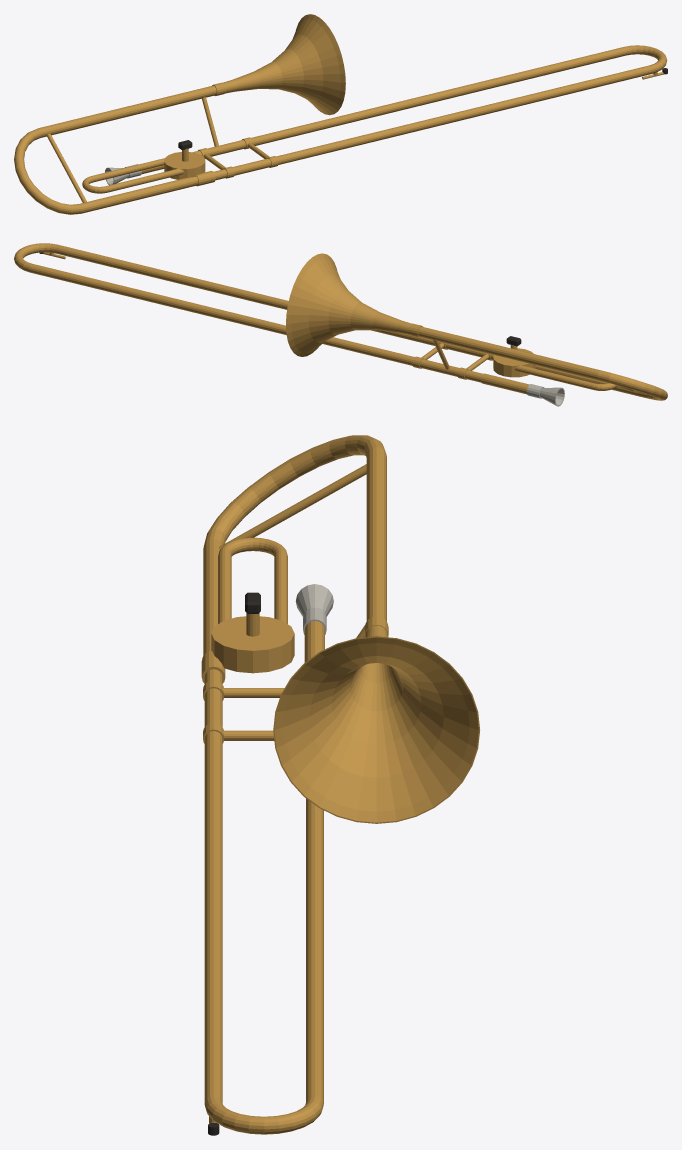
The model's file is full.glb.
3 renders of one model, top to bottom at view 1: azimuth 30°, elevation 25°; view 2: azimuth 150°, elevation 25°; view 3: azimuth 270°, elevation 25°, orthographic. The views are drawn at different scales.
Visible parts, largest first — view 1: Long hollow slide U, Open flared bell with inner wall, Rear tuning U and bell stem, Short attachment U, Generic rotary attachment casing, Bell rear support; view 2: Long hollow slide U, Open flared bell with inner wall, Rear tuning U and bell stem, Short attachment U, Generic rotary attachment casing, Generic mouthpiece receiver, Generic open mouthpiece cup; view 3: Open flared bell with inner wall, Long hollow slide U, Rear tuning U and bell stem, Generic rotary attachment casing, Short attachment U, Bell rear support.
Part boxes in pixels (bbox=[...]): Long hollow slide U: bbox=[192, 45, 667, 180]; Open flared bell with inner wall: bbox=[223, 14, 345, 115]; Rear tuning U and bell stem: bbox=[14, 85, 216, 214]; Short attachment U: bbox=[82, 158, 184, 193]; Generic rotary attachment casing: bbox=[164, 152, 205, 179]; Bell rear support: bbox=[47, 133, 86, 202]; Long hollow slide U: bbox=[14, 243, 493, 382]; Open flared bell with inner wall: bbox=[286, 253, 411, 356]; Rear tuning U and bell stem: bbox=[418, 326, 667, 400]; Short attachment U: bbox=[515, 365, 617, 390]; Generic rotary attachment casing: bbox=[493, 348, 535, 377]; Generic mouthpiece receiver: bbox=[481, 373, 529, 394]; Generic open mouthpiece cup: bbox=[539, 387, 564, 406]; Open flared bell with inner wall: bbox=[273, 625, 479, 823]; Long hollow slide U: bbox=[204, 669, 323, 1134]; Rear tuning U and bell stem: bbox=[203, 435, 386, 655]; Generic rotary attachment casing: bbox=[211, 616, 294, 673]; Short attachment U: bbox=[218, 537, 287, 623]; Bell rear support: bbox=[219, 464, 366, 549].
Size of the model in its own units: 1.3 by 0.199 by 0.2475.
